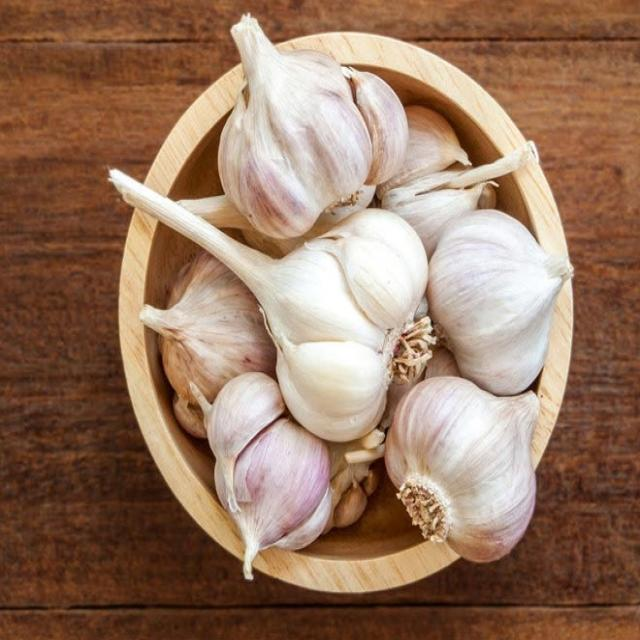garlic: (109, 169, 426, 439), (217, 13, 406, 237), (190, 371, 331, 577), (384, 376, 537, 560), (426, 209, 570, 392), (139, 250, 274, 435)
